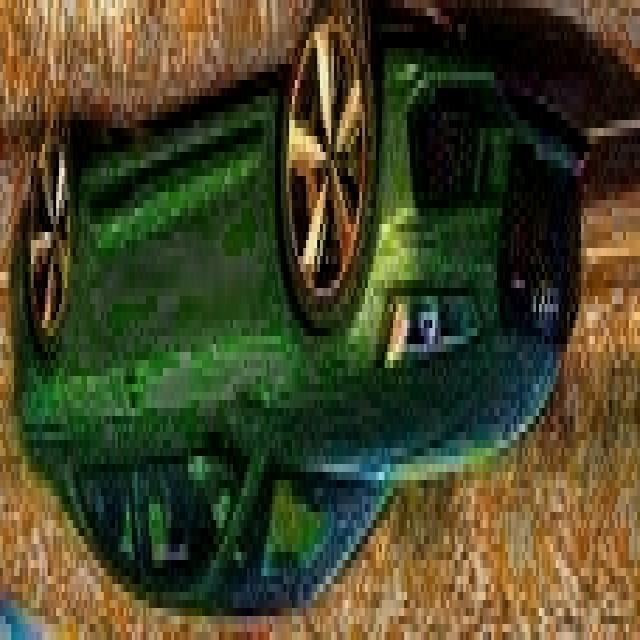green: (10, 0, 594, 624)
